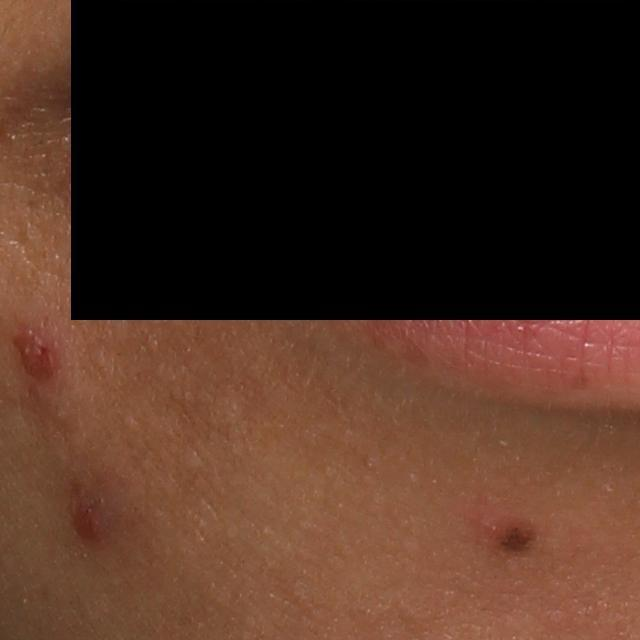papule: (11, 322, 60, 387), (67, 499, 106, 547)
